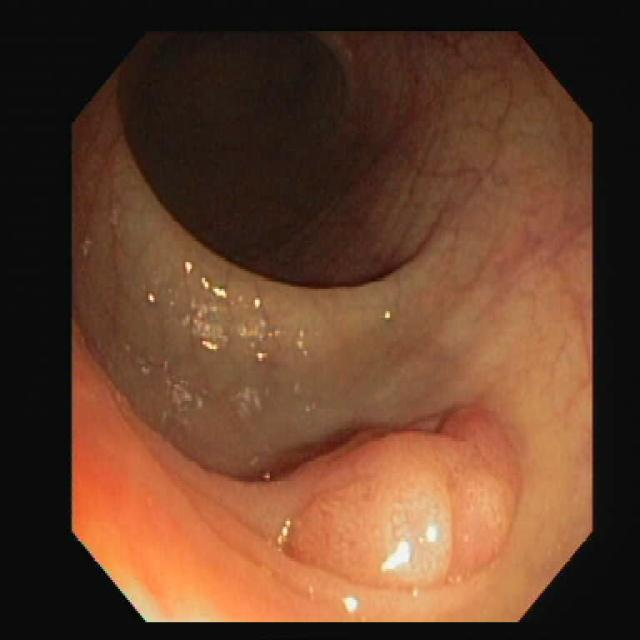tumor: (130, 411, 518, 593)
